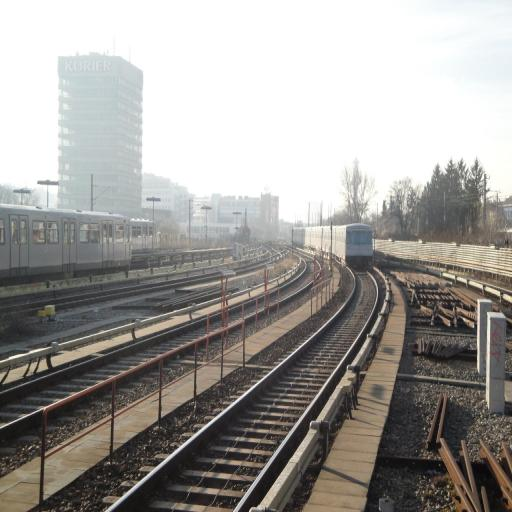Silberpfeil: (289, 222, 375, 261)
